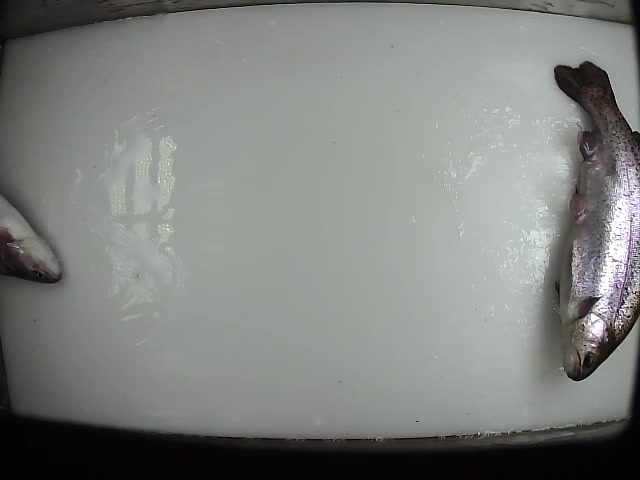fish: (545, 57, 639, 383), (1, 183, 65, 285)
